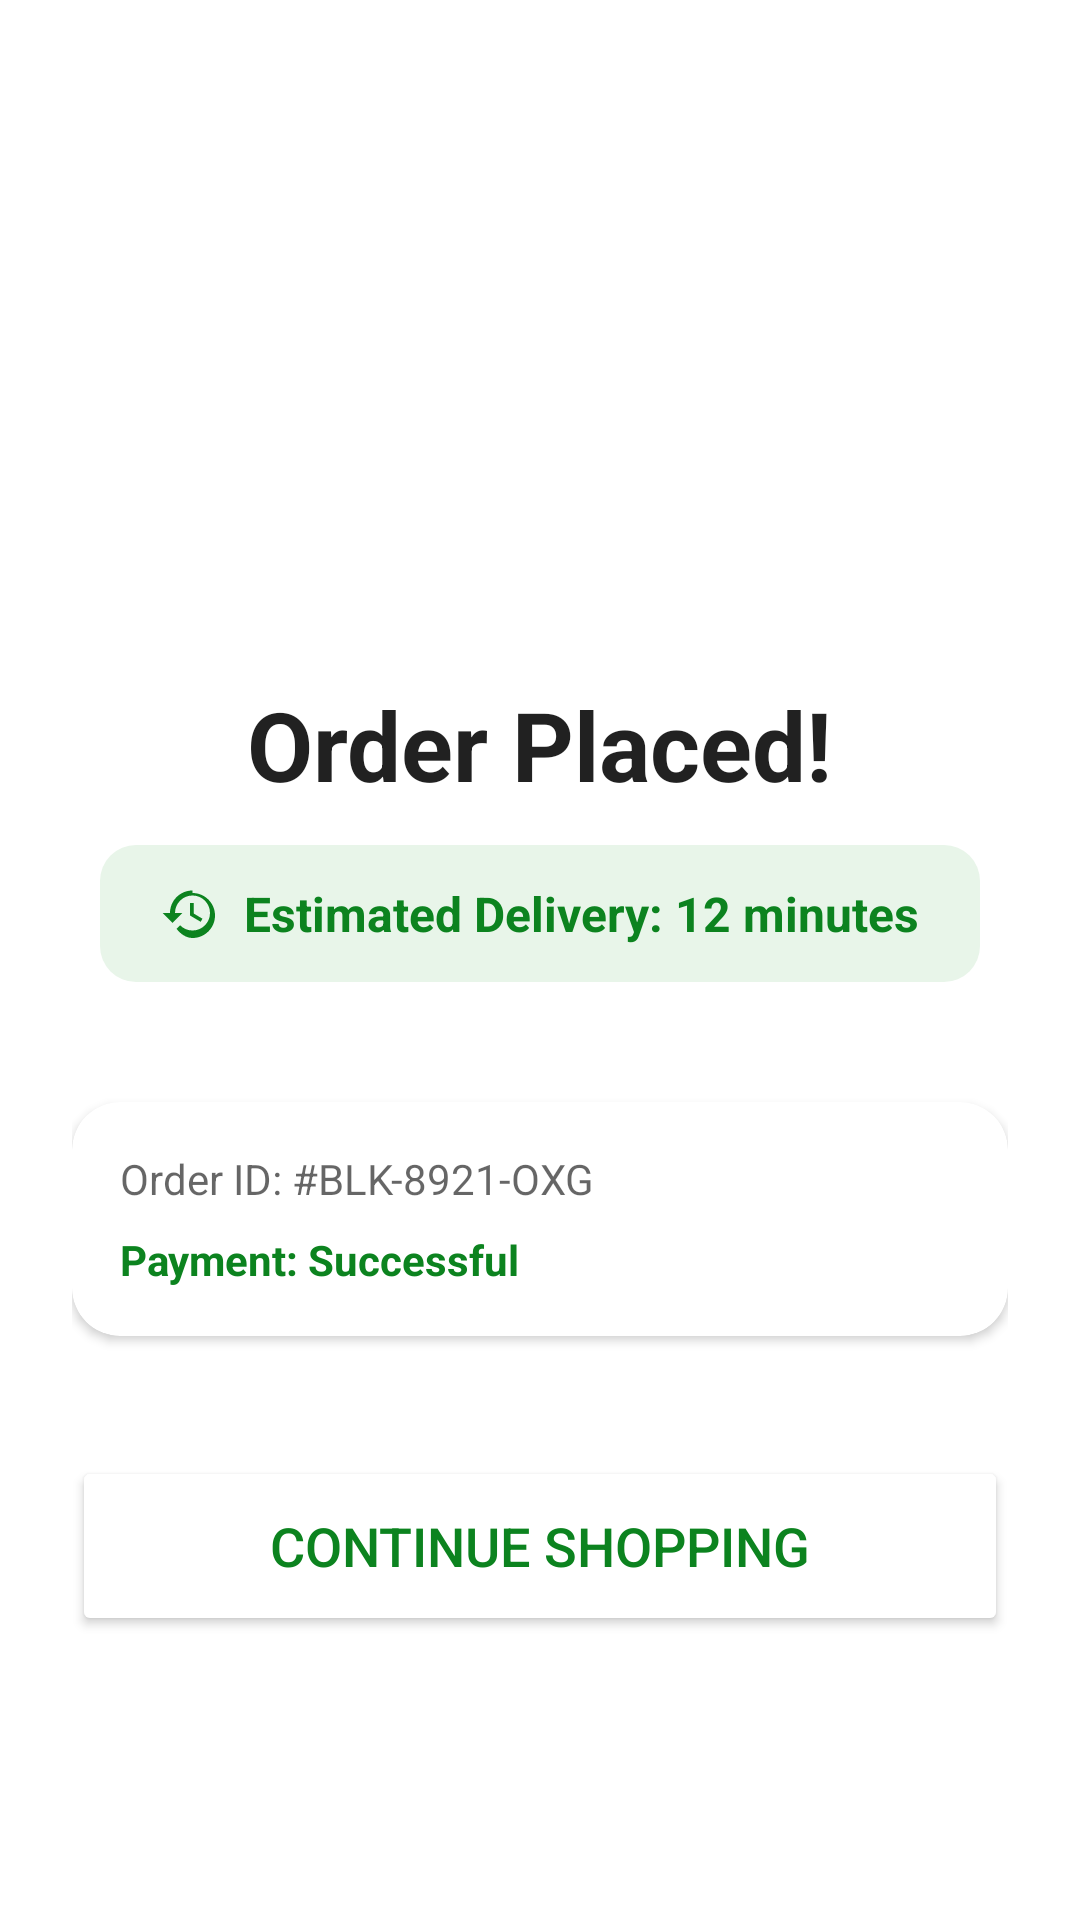

Screen size 1080x1920. Icon name, then its box in pixels as (x1, y1, x2, y2):
history: (163, 890, 215, 938)
